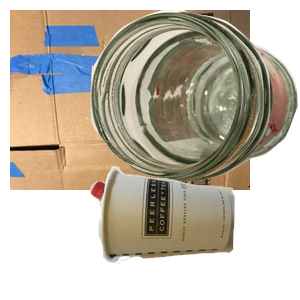cardboard: (10, 10, 250, 190)
glass: (90, 10, 300, 184)
plastic: (87, 178, 234, 300)
trash: (95, 164, 300, 300)
